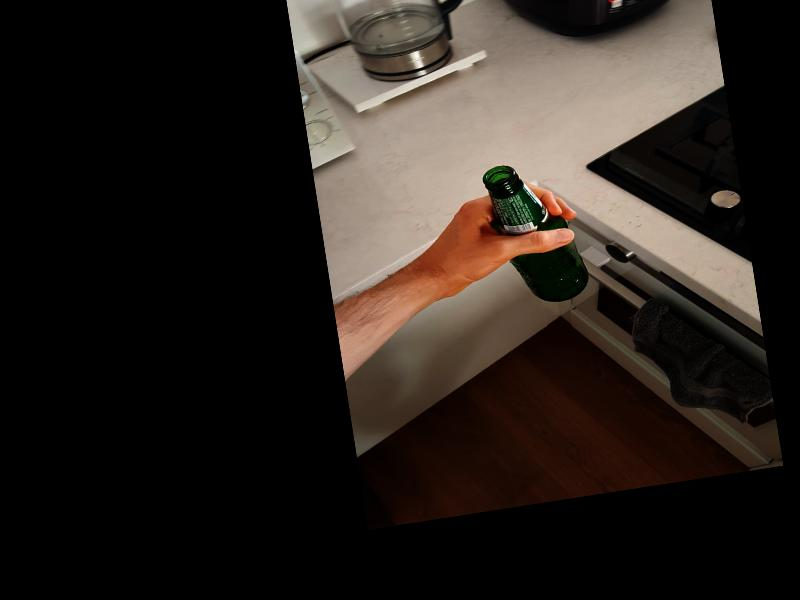Beer: (481, 156, 592, 311)
